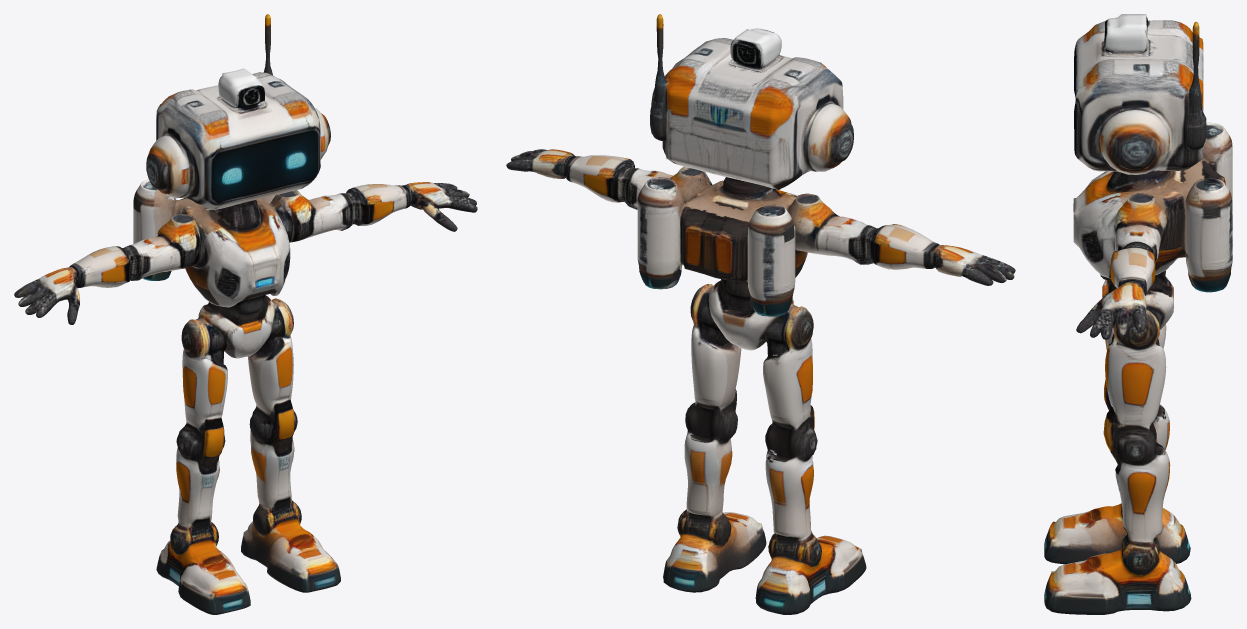
Rendered from base_basic_pbr.fbx.
The picture shows the model from 3 angles, left to right: view 1: azimuth 30°, elevation 25°; view 2: azimuth 150°, elevation 25°; view 3: azimuth 270°, elevation 25°; orthographic projection. The views are drawn at different scales.
Visible parts, largest first — view 1: model; view 2: model; view 3: model.
Boxes of the visible parts, x1,y1,x2,y2 form: model: (14, 14, 477, 614); model: (506, 14, 1015, 614); model: (1044, 14, 1232, 614).
Size of the model in its own units: 170 by 190 by 55.15.
1 material, 1 textured.
